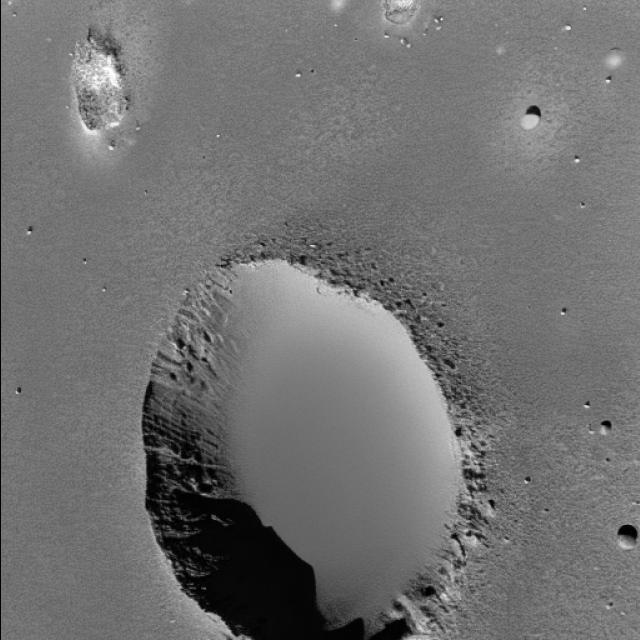crater: (138, 258, 466, 640)
